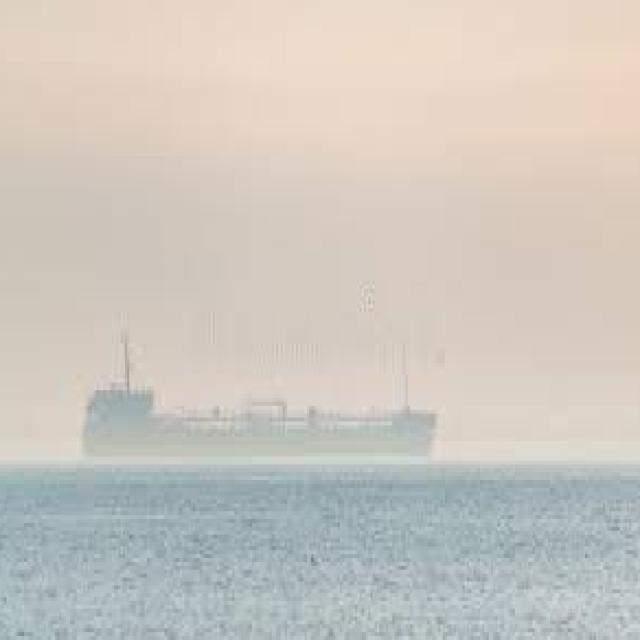cargoship: (80, 328, 440, 472)
